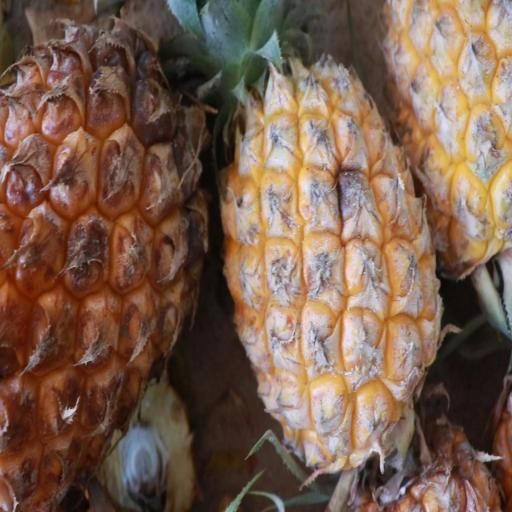Pineapple - v8 v1: (212, 28, 447, 506), (0, 0, 216, 512)
